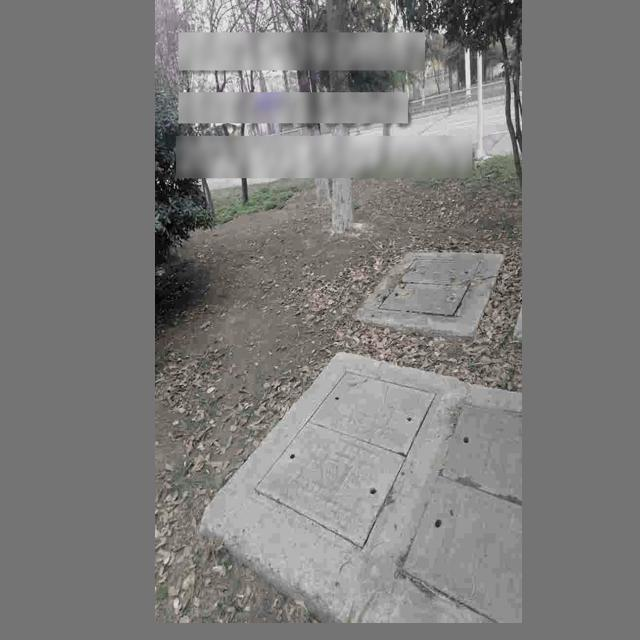good: (246, 366, 441, 558), (388, 397, 522, 623), (373, 254, 484, 322)
